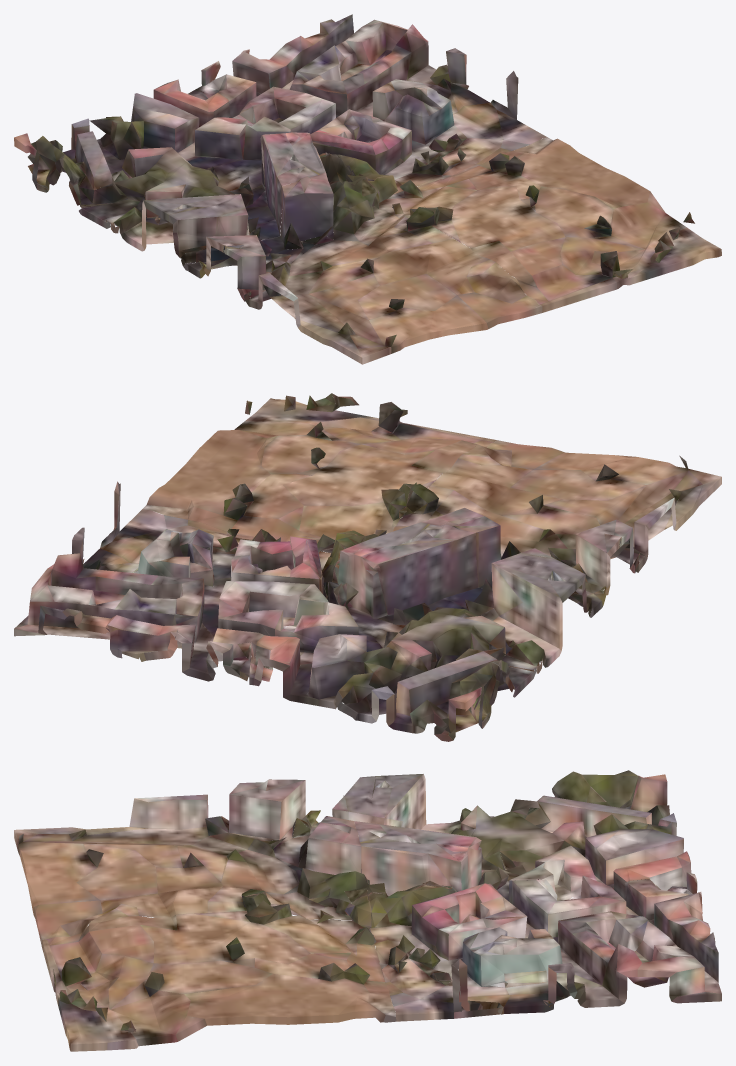
3 renders of one model, top to bottom at view 1: azimuth 30°, elevation 25°; view 2: azimuth 150°, elevation 25°; view 3: azimuth 270°, elevation 25°, orthographic. The views are drawn at different scales.
Visible parts, largest first — view 1: Mesh_0; view 2: Mesh_0; view 3: Mesh_0.
Boxes of the visible parts, bbox=[...] form: Mesh_0: bbox=[14, 14, 721, 364]; Mesh_0: bbox=[14, 393, 721, 741]; Mesh_0: bbox=[14, 770, 721, 1051].
Bounding box in the file's own units: 266 × 43.45 × 330.
2 materials, 2 textured.
